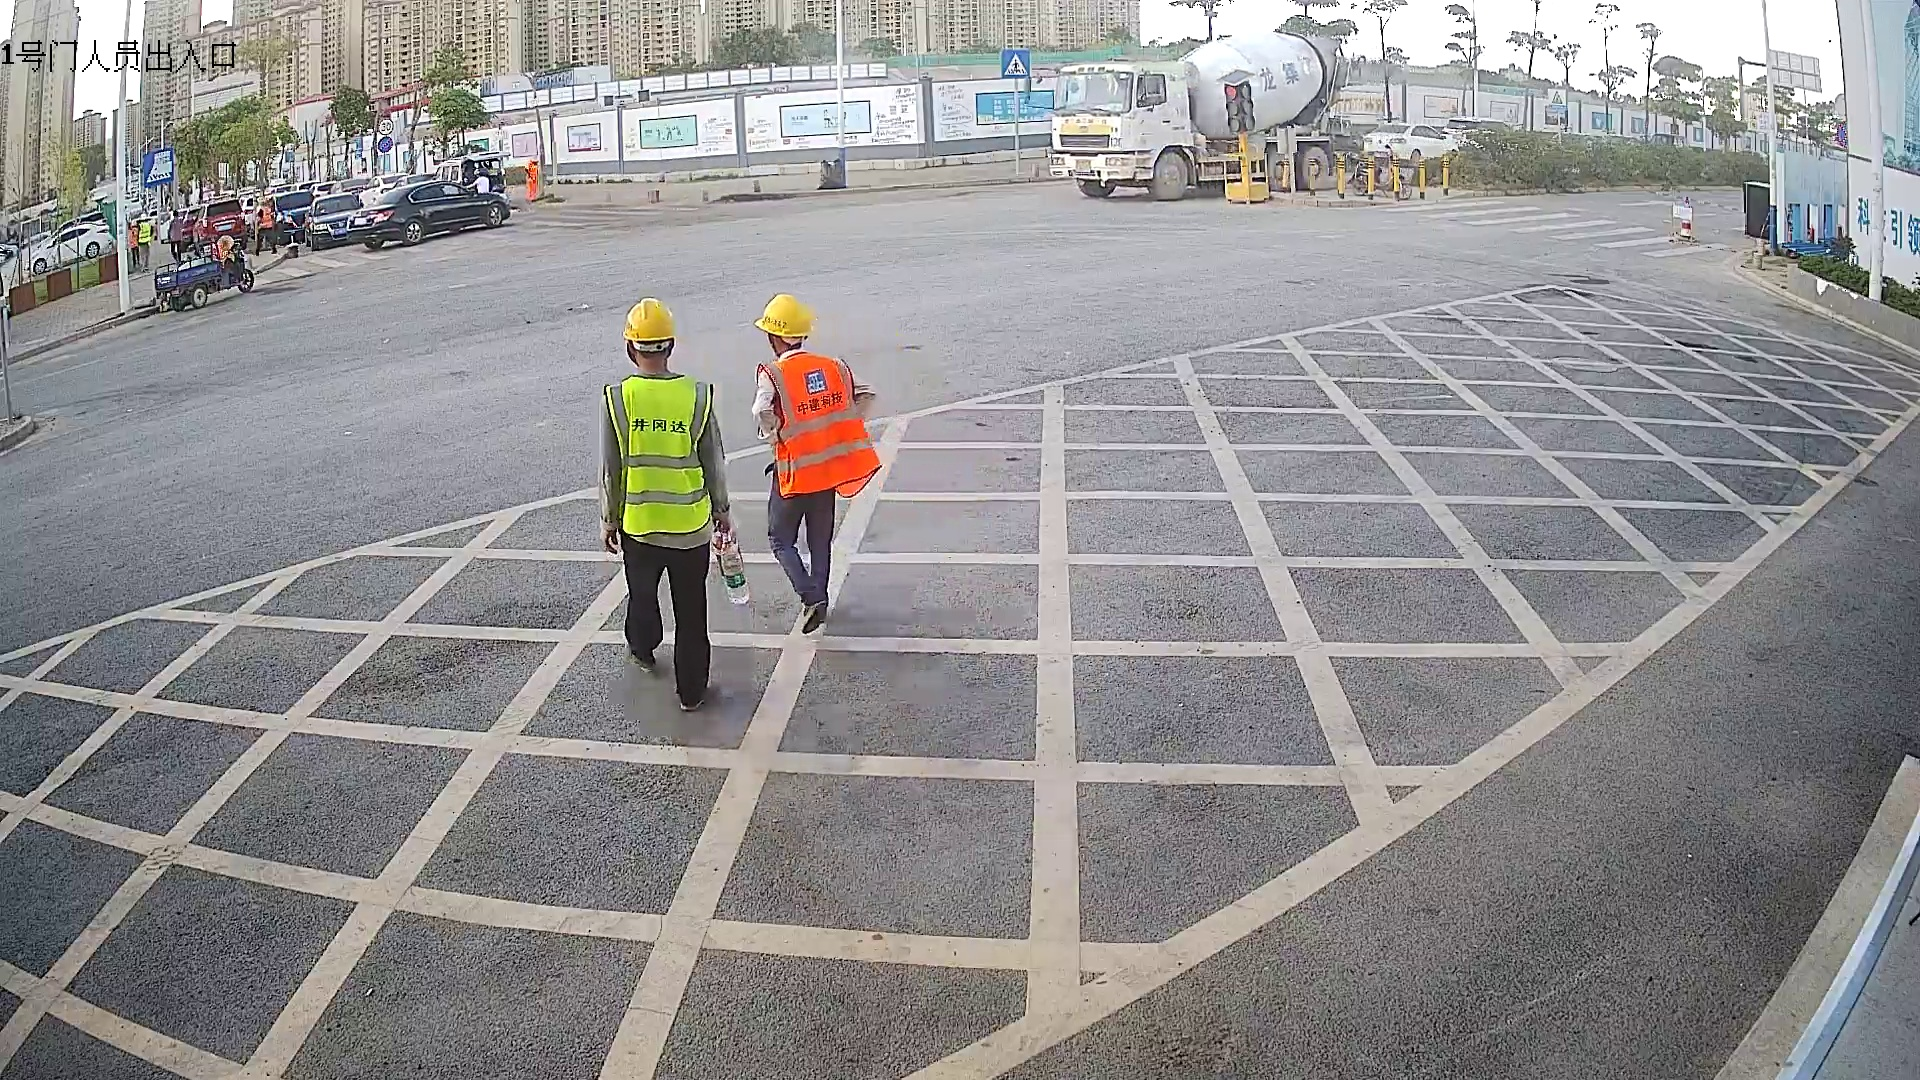person: (594, 294, 735, 713), (748, 290, 887, 634)
reflective_vest: (753, 351, 883, 501), (599, 372, 714, 534)
safety_helmet: (621, 294, 678, 371), (753, 291, 820, 354)
